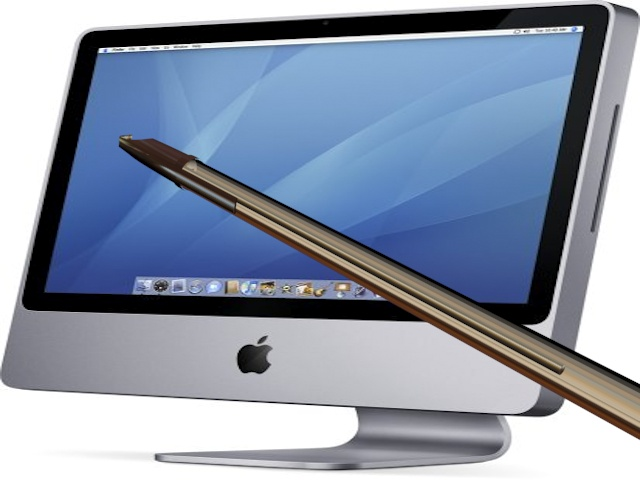pen: (112, 129, 640, 449)
